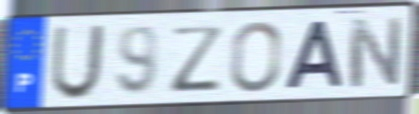9: (115, 23, 161, 98)
A: (281, 19, 346, 92)
N: (347, 15, 404, 91)
O: (228, 19, 284, 95)
U: (48, 22, 108, 102)
Z: (170, 23, 228, 95)
